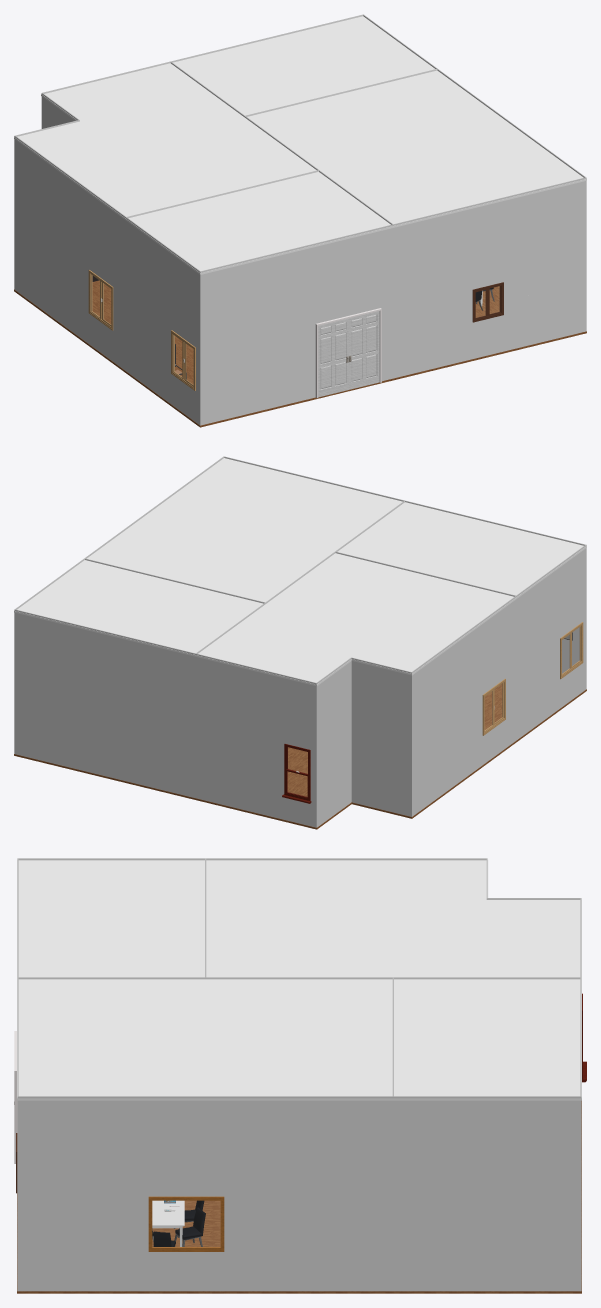
File: ProcTHOR-Train-171.glb
3 views of the same model, one above another, from view 1: azimuth 30°, elevation 25°; view 2: azimuth 150°, elevation 25°; view 3: azimuth 270°, elevation 25° (orthographic). The views are drawn at different scales.
Parts seen in each view (by area): view 1: WallInside#wall|exterior|0.00|11.36|5.68|11.36, Ceiling#room|4|c, Ceiling#room|6|c, WallInside#wall|exterior|5.68|11.36|11.36|11.36, WallInside#wall|exterior|11.36|1.89|11.36|7.57, Ceiling#room|7|c, Ceiling#room|5|c, WallInside#wall|exterior|11.36|7.57|11.36|11.36, Doorway_Door_2a, Doorway_Door_2b, Window_Slider_48x48 (×2), Floor#room|6|f (+5 smaller); view 2: WallInside#wall|exterior|0.00|0.00|5.68|0.00, Ceiling#room|4|c, Ceiling#room|6|c, WallInside#wall|exterior|5.68|0.00|9.46|0.00, WallInside#wall|exterior|11.36|1.89|11.36|7.57, Ceiling#room|5|c, Ceiling#room|7|c, WallInside#wall|exterior|11.36|7.57|11.36|11.36, WallInside#wall|exterior|9.46|1.89|11.36|1.89, WallInside#wall|exterior|9.46|0.00|9.46|1.89, Floor#room|6|f, Window_Slider_48x48 (×2) (+3 smaller); view 3: WallInside#wall|exterior|0.00|3.79|0.00|11.36, Ceiling#room|4|c, Ceiling#room|6|c, WallInside#wall|exterior|0.00|0.00|0.00|3.79, Ceiling#room|5|c, Ceiling#room|7|c, Floor#room|4|f, Window_Fixed_60x48, Dining_Table_221_1, WallInside#wall|6|11.36|1.89|11.36|7.57, Floor#room|5|f, Chair_303_2 (+4 smaller).
Part boxes in pixels (x1,y1,x2,y2): WallInside#wall|exterior|0.00|11.36|5.68|11.36: (393, 177, 586, 378); Ceiling#room|4|c: (244, 70, 586, 227); Ceiling#room|6|c: (14, 63, 317, 220); WallInside#wall|exterior|5.68|11.36|11.36|11.36: (200, 224, 393, 425); WallInside#wall|exterior|11.36|1.89|11.36|7.57: (14, 136, 125, 370); Ceiling#room|7|c: (126, 172, 394, 274); Ceiling#room|5|c: (173, 16, 436, 115); WallInside#wall|exterior|11.36|7.57|11.36|11.36: (126, 217, 200, 425); Doorway_Door_2a: (318, 318, 348, 397); Doorway_Door_2b: (349, 311, 379, 389); Window_Slider_48x48 (×2): (88, 270, 195, 390); Floor#room|6|f: (14, 280, 193, 372); WallInside#wall|exterior|0.00|0.00|5.68|0.00: (14, 609, 195, 798); Ceiling#room|4|c: (87, 458, 403, 602); Ceiling#room|6|c: (195, 553, 516, 686); WallInside#wall|exterior|5.68|0.00|9.46|0.00: (195, 654, 316, 827); WallInside#wall|exterior|11.36|1.89|11.36|7.57: (412, 596, 516, 816); Ceiling#room|5|c: (14, 560, 263, 656); Ceiling#room|7|c: (336, 502, 586, 598); WallInside#wall|exterior|11.36|7.57|11.36|11.36: (516, 545, 586, 739); WallInside#wall|exterior|9.46|1.89|11.36|1.89: (351, 657, 411, 816); WallInside#wall|exterior|9.46|0.00|9.46|1.89: (316, 658, 351, 827); Floor#room|6|f: (196, 740, 516, 829); Window_Slider_48x48 (×2): (482, 622, 583, 735); WallInside#wall|exterior|0.00|3.79|0.00|11.36: (17, 1096, 393, 1291); Ceiling#room|4|c: (17, 979, 394, 1100); Ceiling#room|6|c: (204, 860, 581, 978); WallInside#wall|exterior|0.00|0.00|0.00|3.79: (393, 1096, 581, 1291); Ceiling#room|5|c: (392, 979, 581, 1100); Ceiling#room|7|c: (17, 860, 206, 978); Floor#room|4|f: (17, 1193, 394, 1293); Window_Fixed_60x48: (148, 1196, 224, 1251); Dining_Table_221_1: (152, 1200, 184, 1246); WallInside#wall|6|11.36|1.89|11.36|7.57: (206, 858, 486, 860); Floor#room|5|f: (392, 1172, 581, 1293); Chair_303_2: (174, 1207, 205, 1246).
Size of what is drawn, in the model's own units: 11.44 by 4.38 by 11.56.
Materials: 281 (101 with a texture image).
